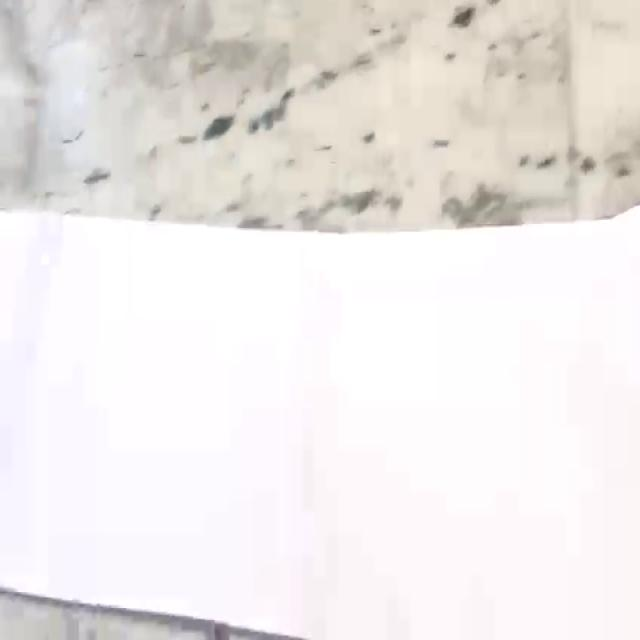road: (0, 207, 640, 640)
